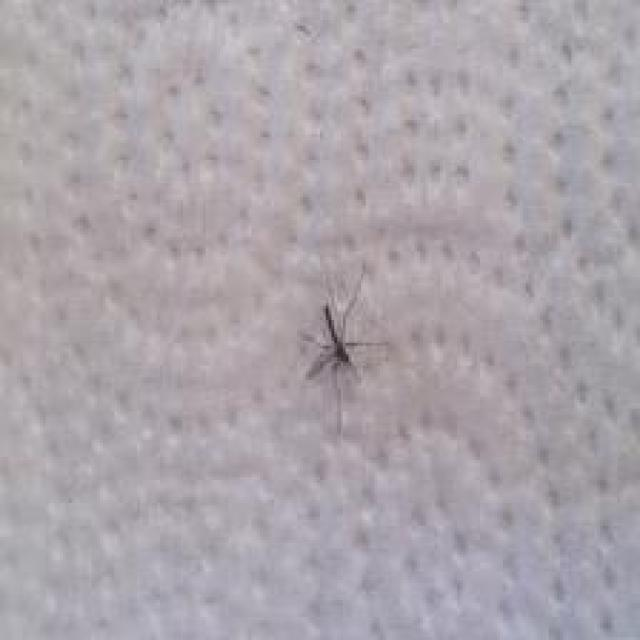Aedes albopictus: (297, 266, 389, 437)
